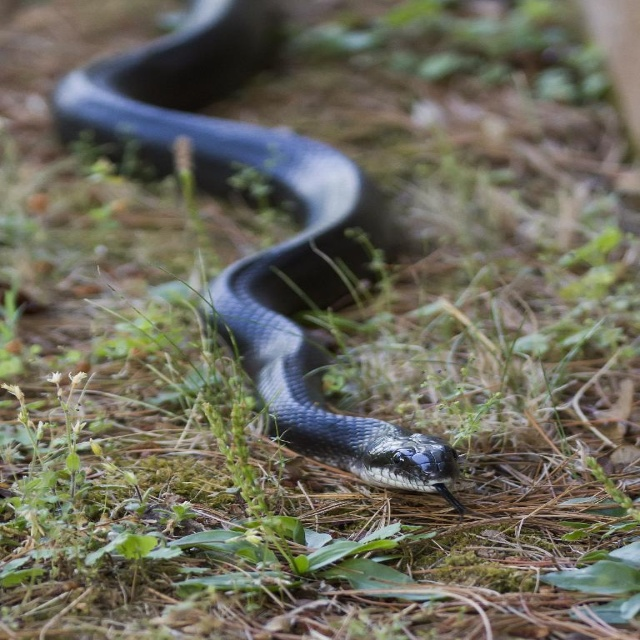Snake: (55, 0, 473, 518)
